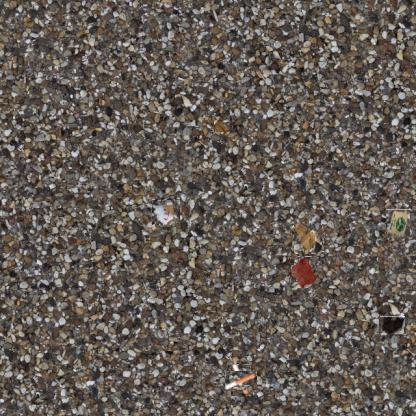dirty: (293, 223, 323, 253), (152, 199, 180, 227), (386, 209, 410, 238), (228, 367, 254, 393), (213, 113, 231, 131)
liquid: (289, 256, 315, 288), (380, 316, 406, 333)
